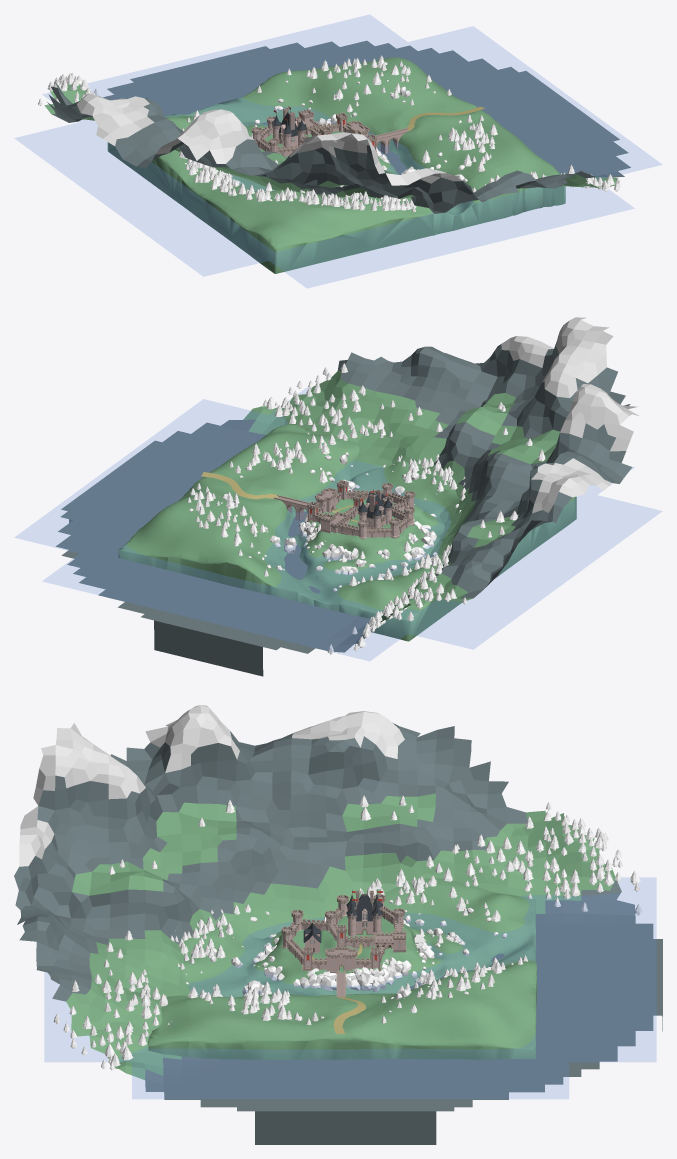
File: level.glb
3 renders of one model, top to bottom at view 1: azimuth 30°, elevation 25°; view 2: azimuth 150°, elevation 25°; view 3: azimuth 270°, elevation 25°, orthographic. The views are drawn at different scales.
Visible parts, largest first — view 1: BACKDROP, CHUNK_-015_-005, CHUNK_-014_-005, CHUNK_-013_-005, CHUNK_-011_-001, CHUNK_-011_+000, CHUNK_-016_-005, CHUNK_-016_-003, CHUNK_-012_+000, CHUNK_-010_-005, CHUNK_-016_-004, CHUNK_-013_+001 (+22 smaller); view 2: BACKDROP, CHUNK_-014_-001, CHUNK_-011_+001, CHUNK_-010_+001, CHUNK_-015_+001, CHUNK_-011_-003, CHUNK_-011_-004, CHUNK_-012_+001, CHUNK_-013_+001, CHUNK_-013_-001, CHUNK_-011_-002, CHUNK_-016_+001 (+25 smaller); view 3: BACKDROP, CHUNK_-010_+000, CHUNK_-012_-002, CHUNK_-013_-001, CHUNK_-015_+000, CHUNK_-010_+001, CHUNK_-010_-001, CHUNK_-013_-004, CHUNK_-014_+001, CHUNK_-011_+001, CHUNK_-010_-004, CHUNK_-010_-003 (+34 smaller).
Part boxes in pixels (<box>): BACKDROP: <box>15,15,661,287</box>; CHUNK_-015_-005: <box>284,185,360,270</box>; CHUNK_-014_-005: <box>327,194,403,257</box>; CHUNK_-013_-005: <box>372,195,433,250</box>; CHUNK_-011_-001: <box>355,79,423,132</box>; CHUNK_-011_+000: <box>332,55,404,107</box>; CHUNK_-016_-005: <box>257,223,306,273</box>; CHUNK_-016_-003: <box>203,179,258,240</box>; CHUNK_-012_+000: <box>288,71,358,124</box>; CHUNK_-010_-005: <box>497,158,564,214</box>; CHUNK_-016_-004: <box>228,159,285,262</box>; CHUNK_-013_+001: <box>219,82,293,123</box>; BACKDROP: <box>15,317,661,676</box>; CHUNK_-014_-001: <box>345,494,414,567</box>; CHUNK_-011_+001: <box>165,514,231,579</box>; CHUNK_-010_+001: <box>118,511,188,569</box>; CHUNK_-015_+001: <box>339,575,409,635</box>; CHUNK_-011_-003: <box>266,448,332,500</box>; CHUNK_-011_-004: <box>294,434,353,481</box>; CHUNK_-012_+001: <box>207,529,276,590</box>; CHUNK_-013_+001: <box>251,564,318,601</box>; CHUNK_-013_-001: <box>303,498,371,555</box>; CHUNK_-011_-002: <box>239,475,307,519</box>; CHUNK_-016_+001: <box>377,563,442,641</box>; BACKDROP: <box>14,705,662,1144</box>; CHUNK_-010_+000: <box>413,979,482,1041</box>; CHUNK_-012_-002: <box>301,947,363,996</box>; CHUNK_-013_-001: <box>356,898,424,976</box>; CHUNK_-015_+000: <box>419,875,483,927</box>; CHUNK_-010_+001: <box>476,994,535,1054</box>; CHUNK_-010_-001: <box>358,988,426,1042</box>; CHUNK_-013_-004: <box>187,927,248,976</box>; CHUNK_-014_+001: <box>470,910,536,958</box>; CHUNK_-011_+001: <box>476,961,536,1026</box>; CHUNK_-010_-004: <box>183,995,258,1039</box>; CHUNK_-010_-003: <box>236,1000,311,1035</box>.
Bounding box in the file's own units: 402 × 141 × 403.
